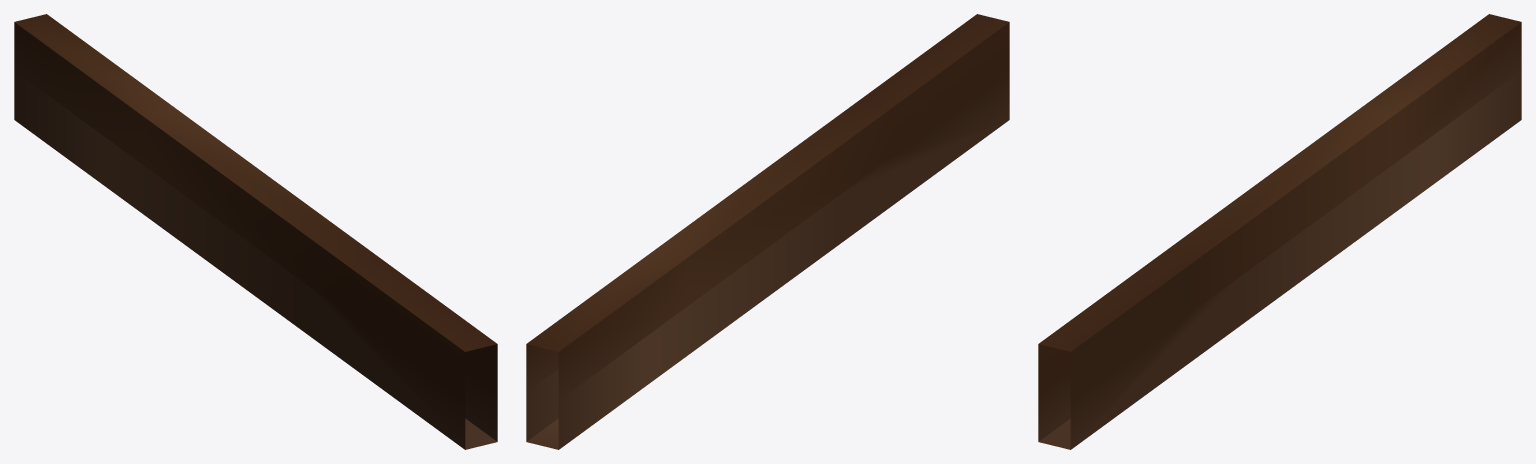
File: Wall_HomeA-1stTo2ndFloorBuffer001.fbx
The picture shows the model from 3 angles, left to right: view 1: azimuth 30°, elevation 25°; view 2: azimuth 150°, elevation 25°; view 3: azimuth 330°, elevation 25°; orthographic projection.
Visible parts, largest first — view 1: Wall_HomeA-1stTo2ndFloorBuffer001; view 2: Wall_HomeA-1stTo2ndFloorBuffer001; view 3: Wall_HomeA-1stTo2ndFloorBuffer001.
Boxes of the visible parts, left/top/right/bottom form: Wall_HomeA-1stTo2ndFloorBuffer001: left=14, top=14, right=497, bottom=449; Wall_HomeA-1stTo2ndFloorBuffer001: left=526, top=14, right=1009, bottom=449; Wall_HomeA-1stTo2ndFloorBuffer001: left=1038, top=14, right=1521, bottom=449.
Size of the model in its own units: 25 by 71.94 by 600.
